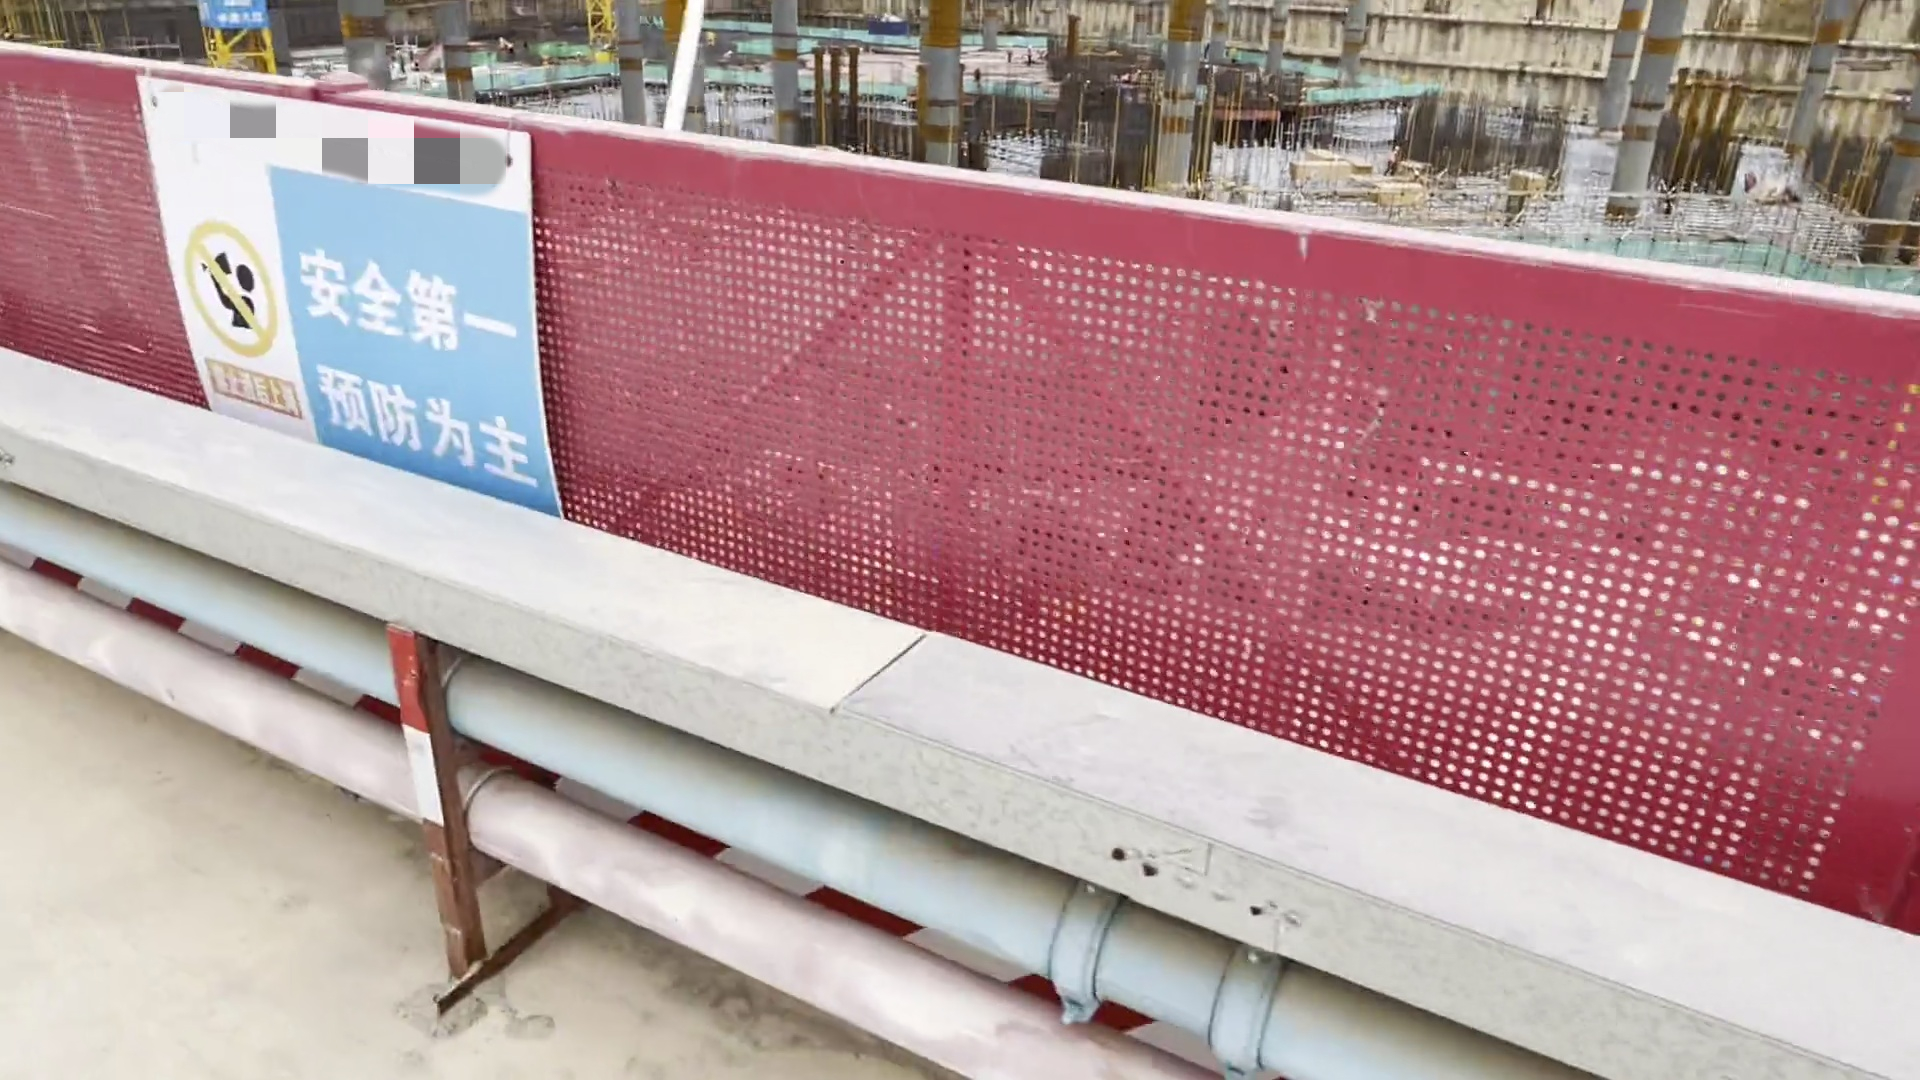slogan: (117, 70, 601, 524)
